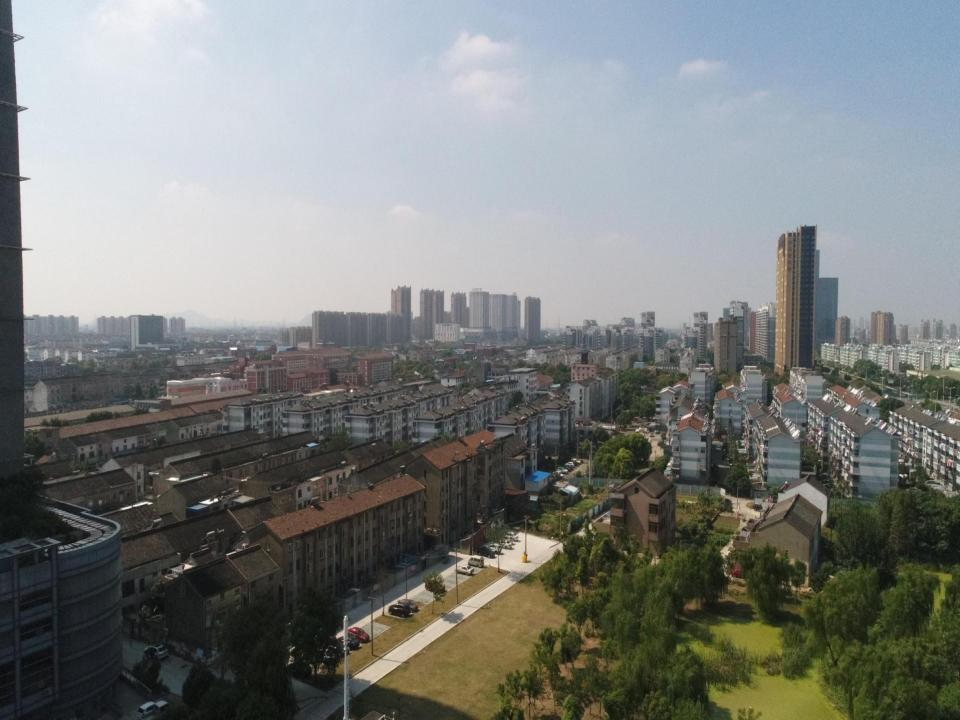car: (143, 640, 169, 664), (136, 699, 160, 718), (346, 627, 369, 643), (316, 647, 338, 663), (328, 638, 349, 654), (387, 604, 410, 618), (336, 634, 359, 648), (397, 598, 417, 612), (476, 546, 494, 558), (454, 564, 474, 574), (730, 568, 747, 578), (496, 538, 512, 548), (503, 532, 517, 541), (489, 543, 501, 553), (556, 466, 568, 474), (752, 503, 763, 509), (553, 471, 564, 477), (564, 461, 575, 467), (570, 458, 581, 463), (563, 466, 571, 472), (649, 431, 654, 437)
truck: (148, 696, 169, 719)
van: (467, 555, 484, 568), (636, 429, 640, 435)
